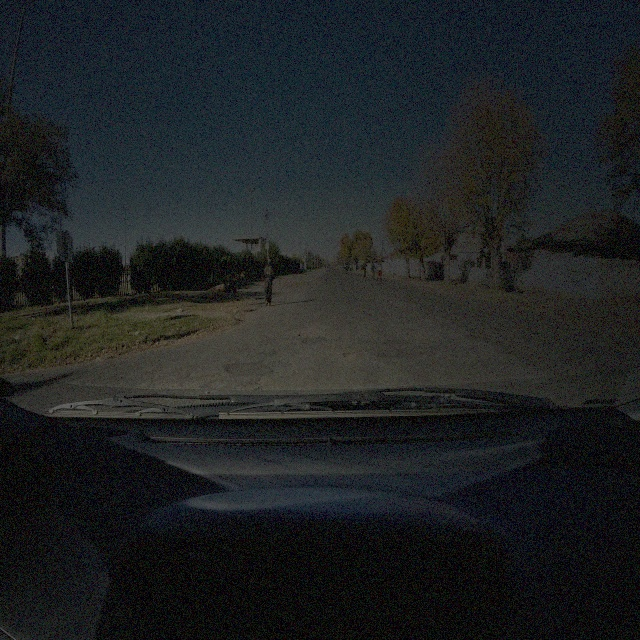pothole: (343, 350, 359, 360), (297, 331, 318, 338)
